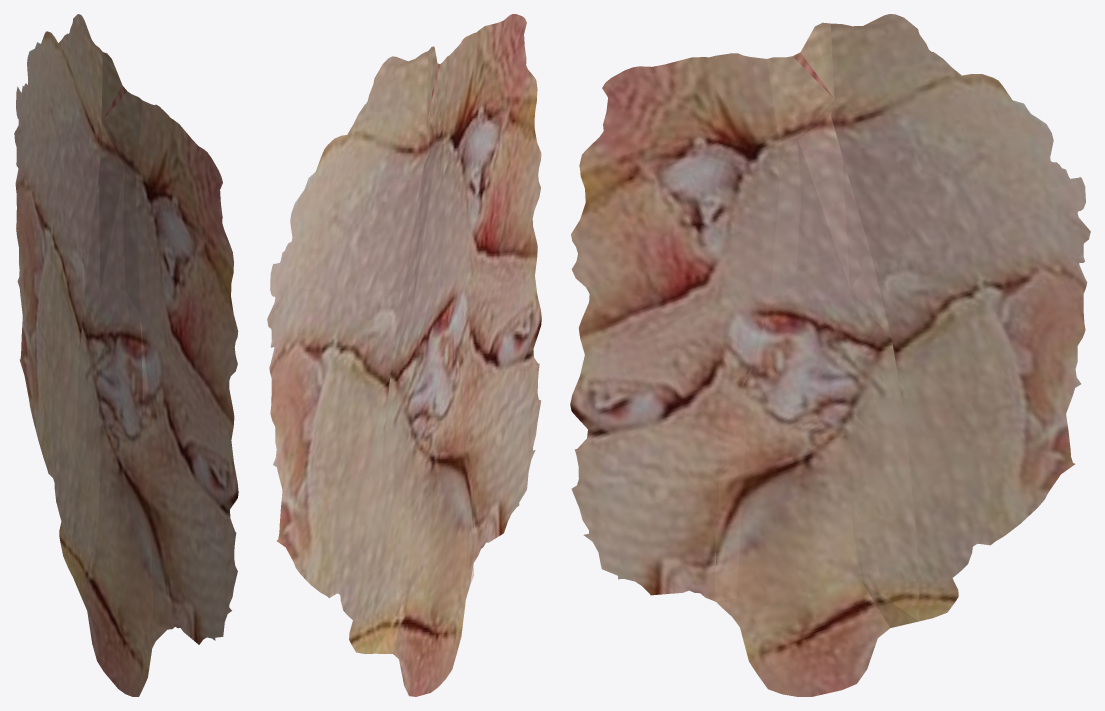
Rendered from cabbageCloth.fbx.
3 renders of one model, left to right at view 1: azimuth 30°, elevation 25°; view 2: azimuth 150°, elevation 25°; view 3: azimuth 270°, elevation 25°, orthographic. The views are drawn at different scales.
Visible parts, largest first — view 1: Model.002; view 2: Model.002; view 3: Model.002.
Part boxes in pixels (x1=…): Model.002: x1=14, y1=14, x2=238, y2=696; Model.002: x1=267, y1=14, x2=541, y2=696; Model.002: x1=570, y1=14, x2=1090, y2=696.
Bounding box in the file's own units: 9.03 × 163 × 112.
